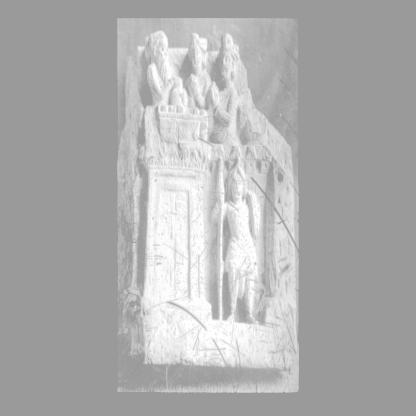buddha-sitting: (208, 33, 240, 146)
